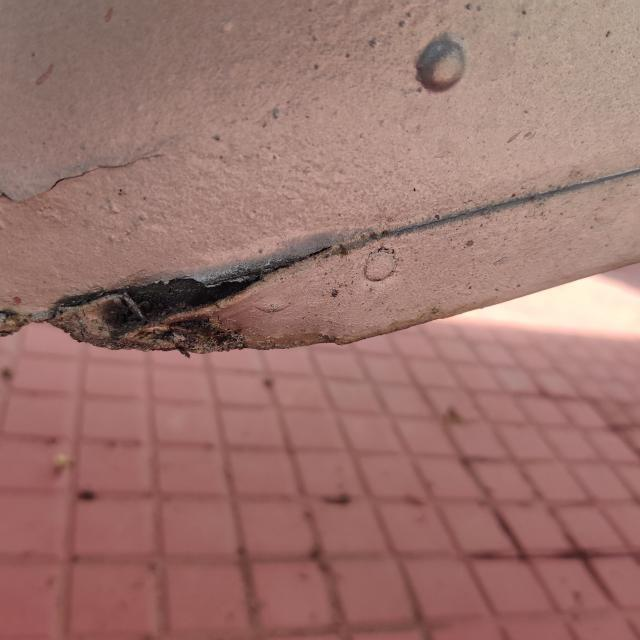Crack: (67, 258, 281, 354)
